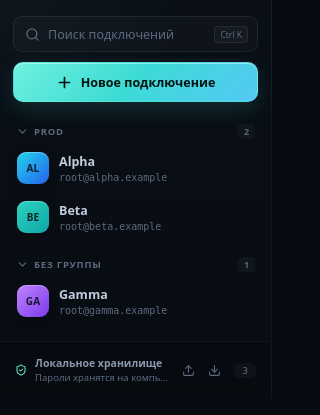
Scenario: Sidebar › очищает поиск по Escape и фокусирует по Ctrl+K
Later steps or results of the test are not shown.
Type "alpha" into the field labelled "Поиск подключений" at (126, 34), box [46,24,206,44]
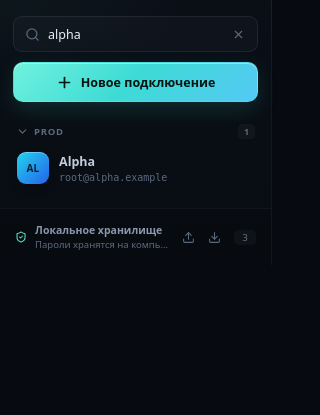
Press Escape in the field named "Поиск подключений", box [46,24,222,44]
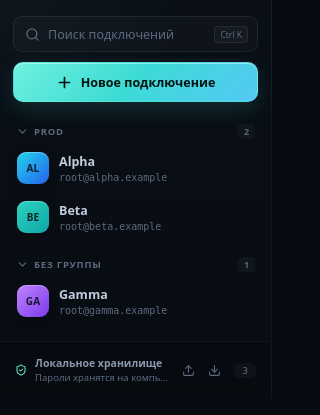
Check: the field labelled "Поиск подключений" is empty, box [46,24,206,44]
